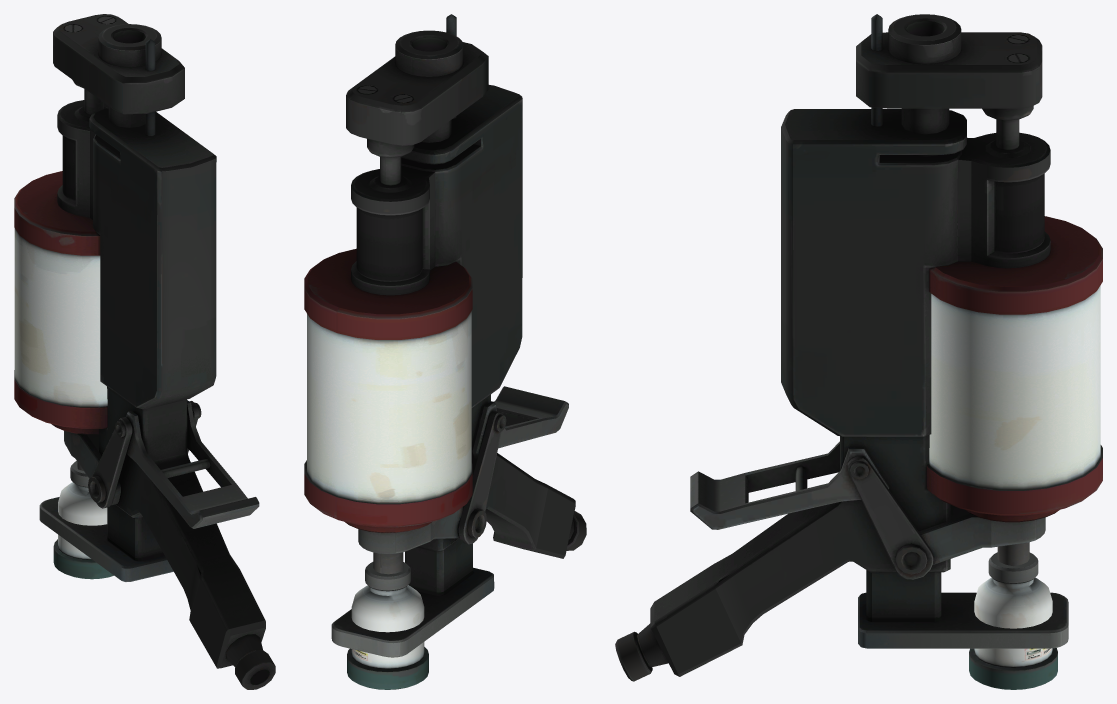
Rendered from c_syringegun.glb.
3 renders of one model, left to right at view 1: azimuth 30°, elevation 25°; view 2: azimuth 150°, elevation 25°; view 3: azimuth 270°, elevation 25°, orthographic. The views are drawn at different scales.
Parts seen in each view (by area): view 1: c_syringegun; view 2: c_syringegun; view 3: c_syringegun.
Part boxes in pixels (x1,y1,x2,y2): c_syringegun: (14,14,275,689); c_syringegun: (304,14,586,689); c_syringegun: (615,14,1102,689).
Bounding box in the file's own units: 7.25 × 29.45 × 19.57.
2 materials, 2 textured.
